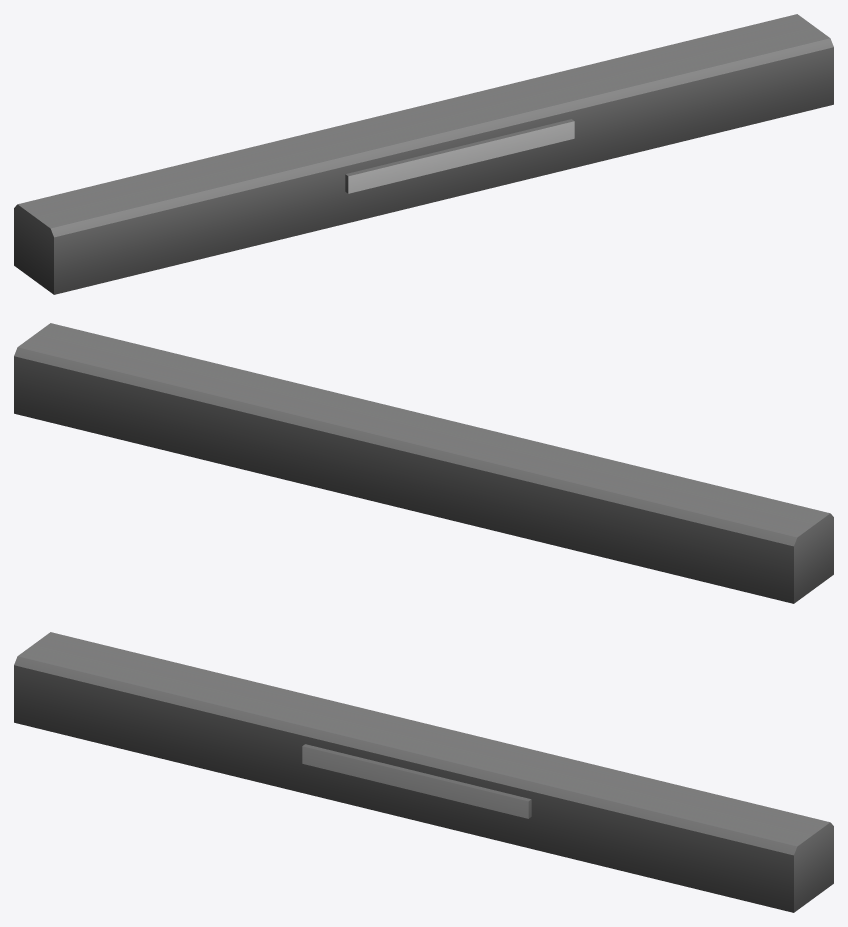
The model's file is geo_warehouseCounter.fbx.
The picture shows the model from 3 angles, top to bottom: view 1: azimuth 30°, elevation 25°; view 2: azimuth 150°, elevation 25°; view 3: azimuth 330°, elevation 25°; orthographic projection.
Parts seen in each view (by area): view 1: geo_warehouseCounter; view 2: geo_warehouseCounter; view 3: geo_warehouseCounter.
Part boxes in pixels (x1,y1,x2,y2): geo_warehouseCounter: (14,14,833,294); geo_warehouseCounter: (14,323,833,603); geo_warehouseCounter: (14,632,833,912).
Size of the model in its own units: 1122 by 87.8 by 107.
1 material, 1 textured.
